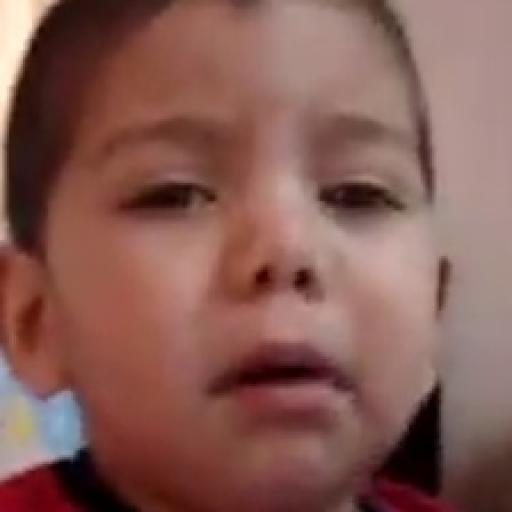Autism: (14, 19, 482, 494)
